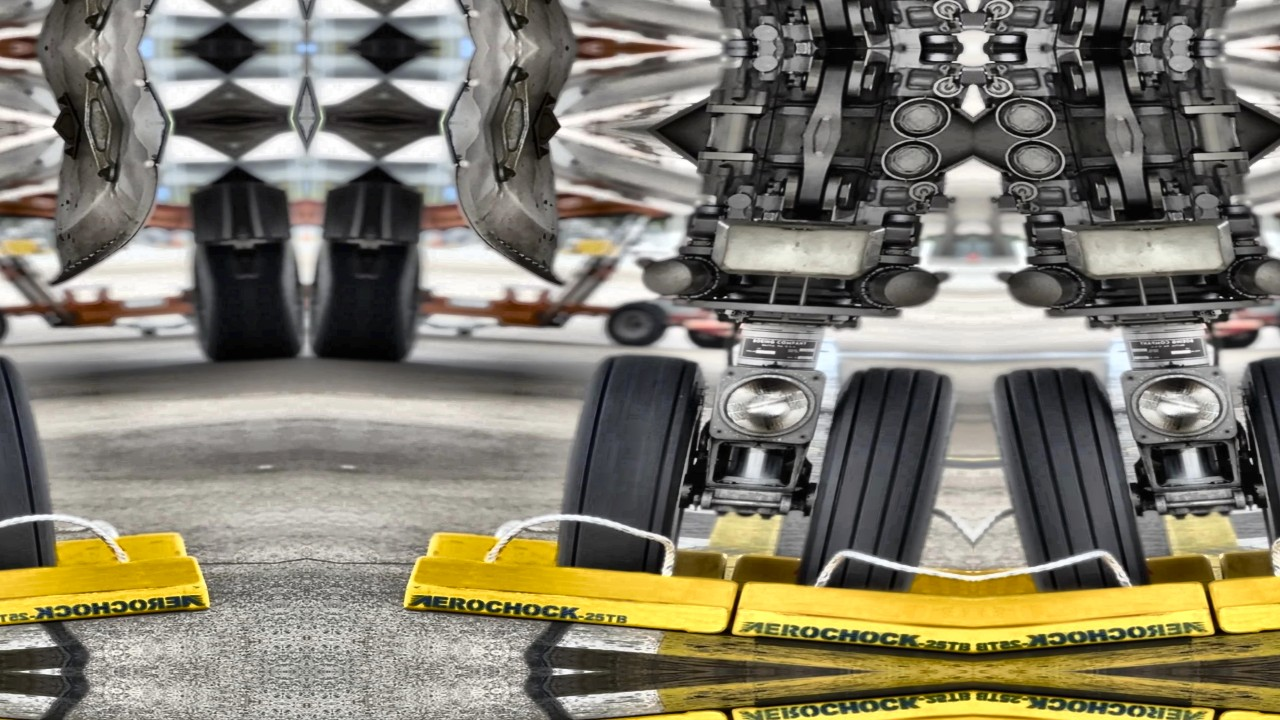chock: (402, 554, 742, 637), (729, 580, 974, 664), (973, 580, 1218, 664), (0, 554, 211, 637), (423, 529, 736, 581), (729, 553, 974, 605), (974, 553, 1218, 605), (0, 529, 190, 581), (729, 680, 974, 720), (973, 680, 1218, 720), (1205, 554, 1280, 637), (402, 707, 742, 720), (1211, 529, 1280, 581)
wheel: (791, 364, 965, 595), (982, 364, 1156, 595), (556, 350, 714, 574), (0, 350, 57, 574), (1233, 350, 1280, 574), (188, 256, 250, 360), (363, 256, 425, 360), (250, 253, 307, 357), (306, 253, 363, 357), (604, 301, 668, 346), (685, 326, 733, 349), (1214, 326, 1262, 349), (0, 301, 9, 346)
